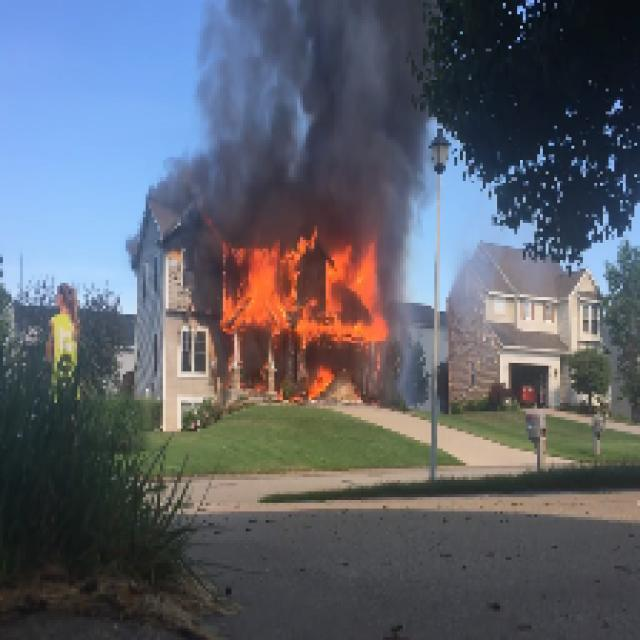Fire: (217, 242, 383, 334)
Smoke: (168, 3, 428, 206), (392, 208, 428, 382)
